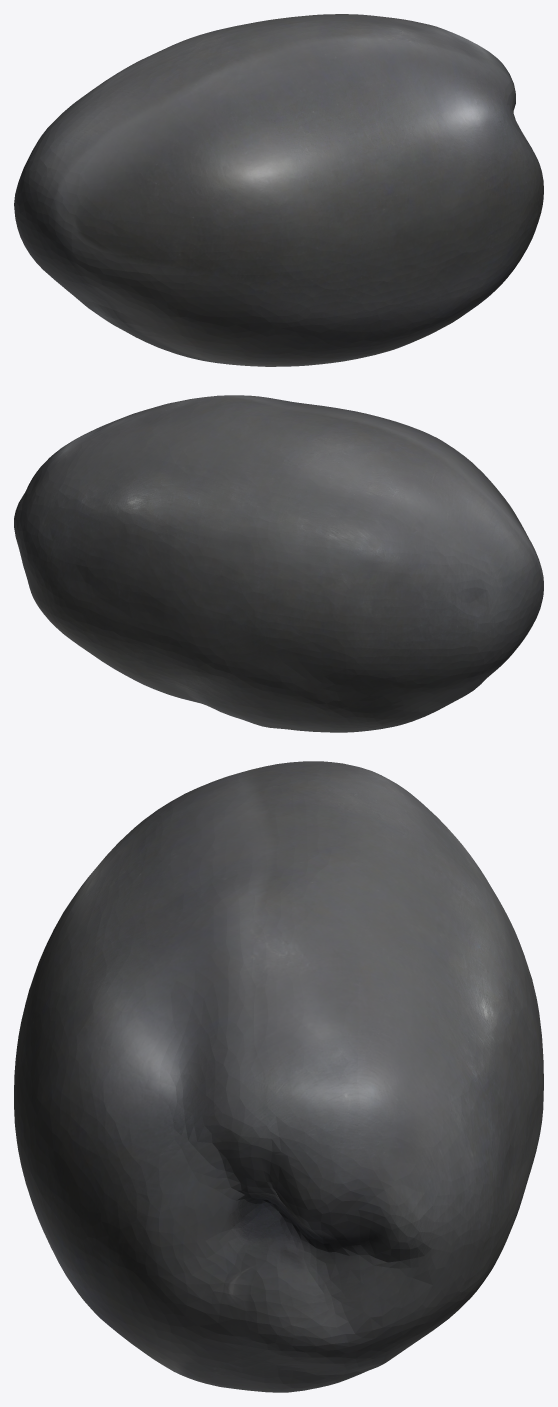
Rendered from Black_Olive_0422150022_texture.fbx.
3 renders of one model, top to bottom at view 1: azimuth 30°, elevation 25°; view 2: azimuth 150°, elevation 25°; view 3: azimuth 270°, elevation 25°, orthographic. The views are drawn at different scales.
Parts seen in each view (by area): view 1: temp; view 2: temp; view 3: temp.
Part boxes in pixels (<box>): temp: <box>14,14,543,366</box>; temp: <box>14,395,543,732</box>; temp: <box>14,761,543,1392</box>.
Bounding box in the file's own units: 200 × 120 × 123.
Materials: 1 (1 with a texture image).
